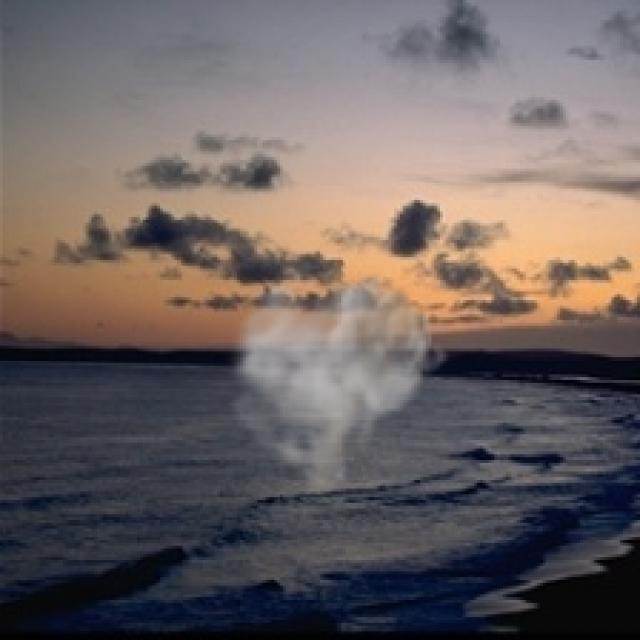smoke: (223, 252, 451, 508)
